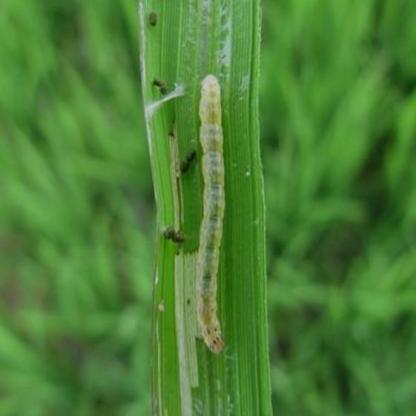leaf-folder: (176, 60, 241, 368)
